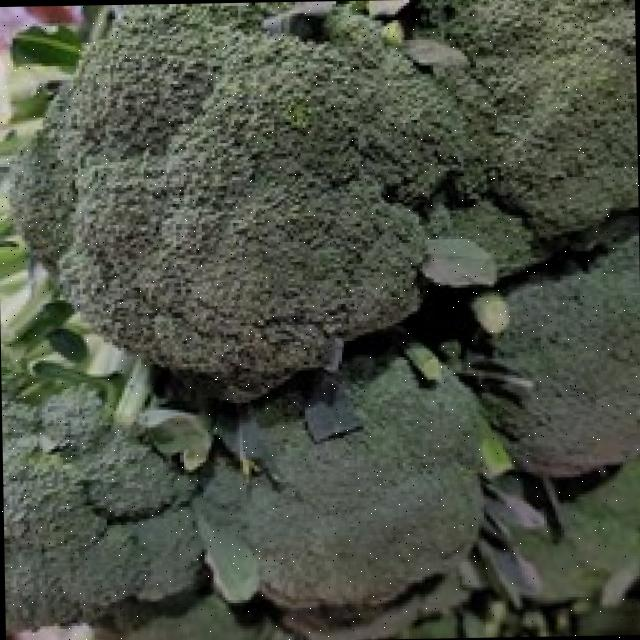Broccoli: (12, 1, 461, 395), (12, 1, 460, 383), (197, 355, 486, 606), (200, 356, 485, 603), (408, 0, 638, 235), (413, 0, 638, 236), (1, 389, 201, 628), (1, 391, 201, 628), (481, 234, 640, 474), (483, 234, 640, 473)
